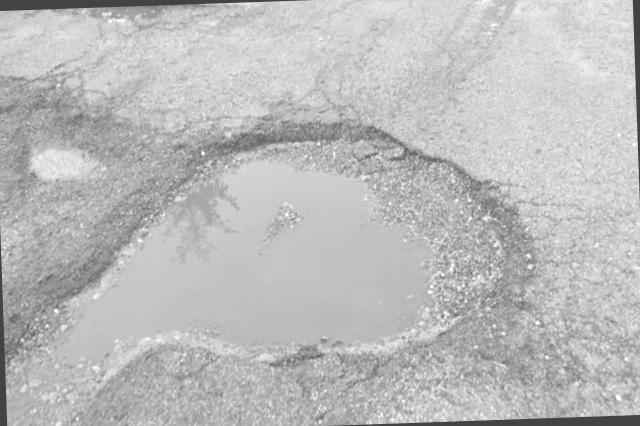Pothole: (0, 99, 565, 426), (0, 92, 103, 191), (39, 5, 198, 51)
